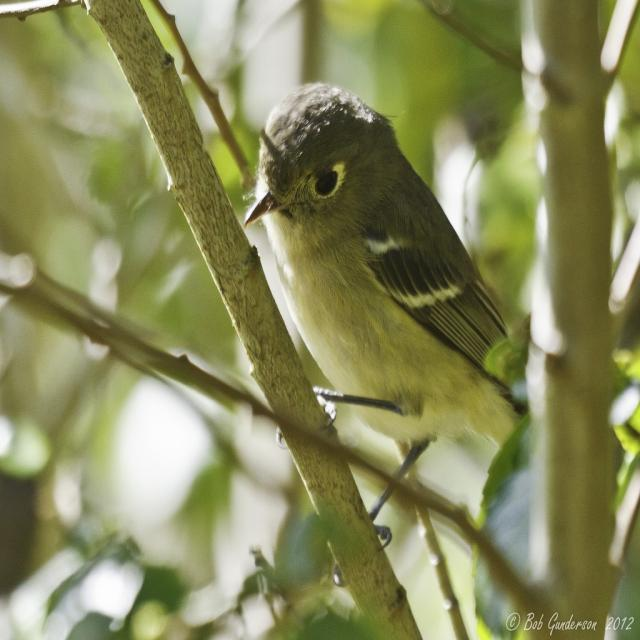bird: (247, 90, 533, 472)
